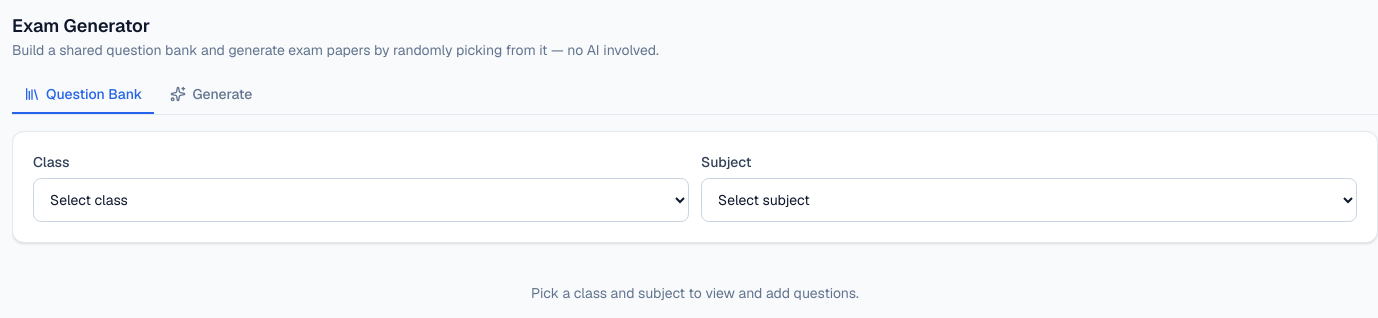
Test: ExamGeneratorPage › Generate tab › shows an empty state for a TEACHER with zero grants
The image size is (1378, 318).
Click the button "Generate" at (211, 95), box [158,76,264,114]
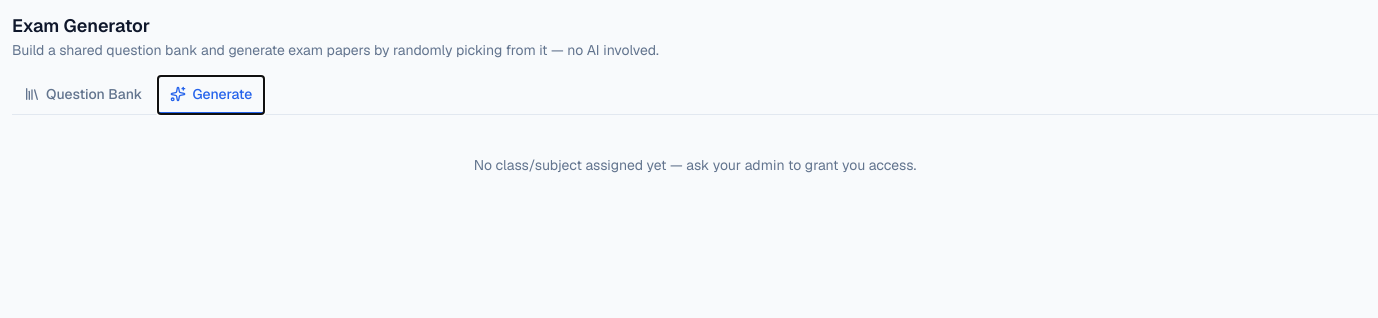
Check: the text "No class/subject assigned yet" is shown, box [474,156,916,174]
